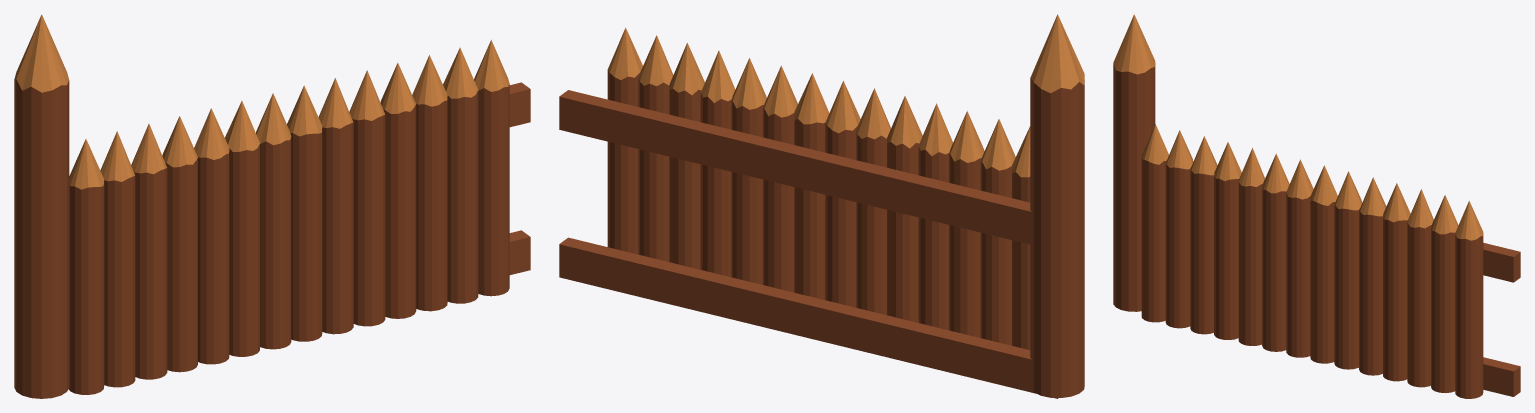
The model's file is wooden_fence_reversed.fbx.
The picture shows the model from 3 angles, left to right: view 1: azimuth 30°, elevation 25°; view 2: azimuth 150°, elevation 25°; view 3: azimuth 330°, elevation 25°; orthographic projection. The views are drawn at different scales.
Parts seen in each view (by area): view 1: Cylinder.004; view 2: Cylinder.004; view 3: Cylinder.004.
Boxes of the visible parts, x1,y1,x2,y2 form: Cylinder.004: (14,14,530,398); Cylinder.004: (559,14,1084,398); Cylinder.004: (1113,14,1520,398).
Size of the model in its own units: 647 by 453 by 67.97.
